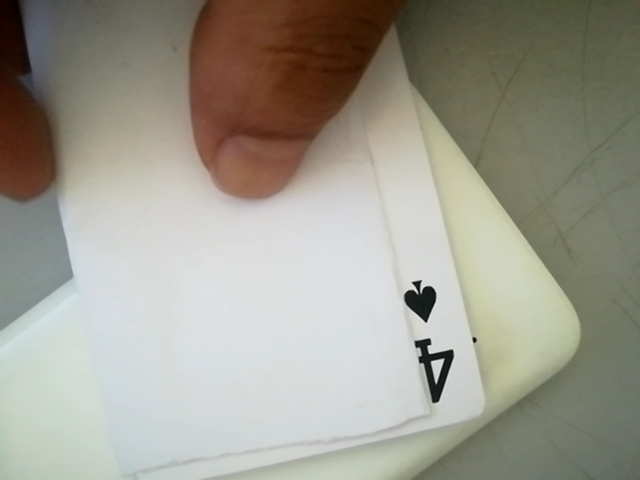ht 4: (387, 265, 476, 417)
